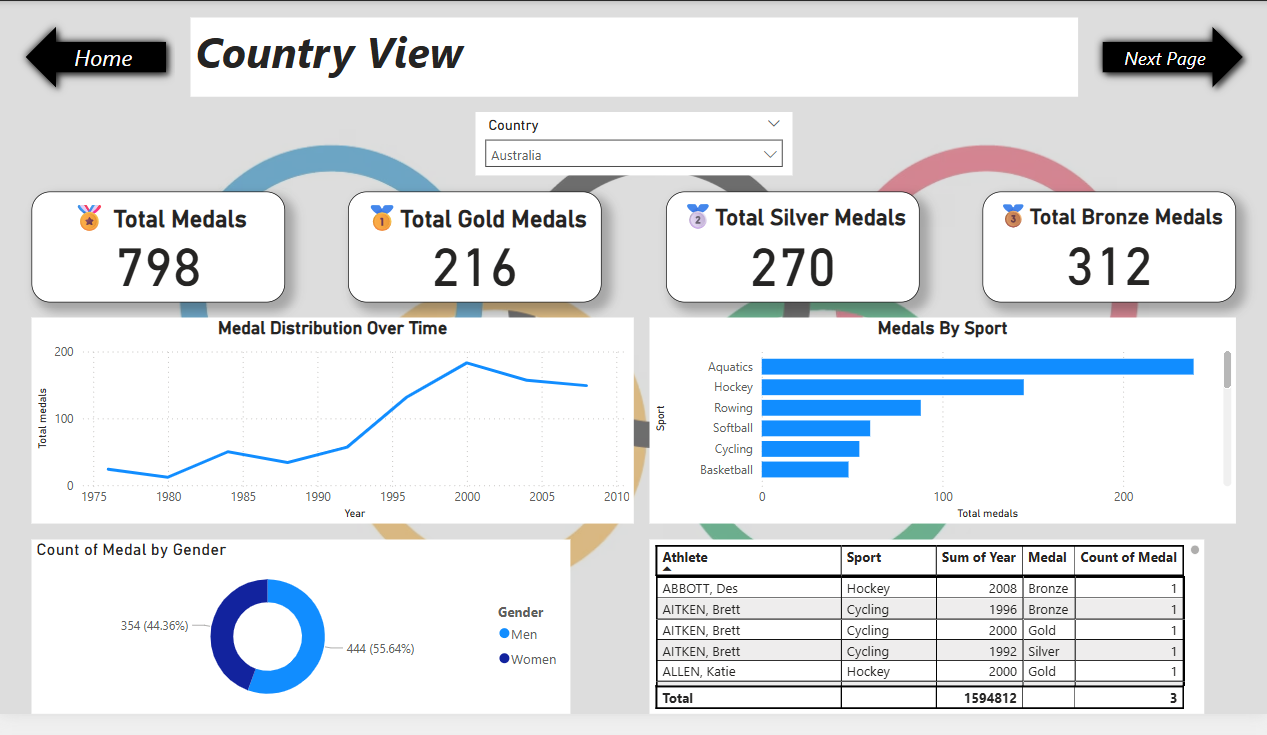

What the dashboard file says about the page in this screenshot:
{"tool":"powerbi","page":{"name":"Country View","canvas":[1280,720],"ordinal":2},"visuals":[{"type":"shape","box":[16,16,160,80],"z":0},{"type":"textbox","box":[192,16,896,80],"z":1000},{"type":"shape","box":[1104,16,160,80],"z":2000},{"type":"slicer","fields":{"Values":["Summer-Olympic-medals-1976-to-2008.Country"]},"box":[480,112,320,64],"z":3000},{"type":"card","title":"🏅 Total Medals","fields":{"Values":["Summer-Olympic-medals-1976-to-2008.Total medals"]},"box":[32,192,256,112],"z":4000},{"type":"card","title":"🥇Total Gold Medals","fields":{"Values":["Summer-Olympic-medals-1976-to-2008.Total Gold Medals"]},"box":[352,192,256,112],"z":5000},{"type":"card","title":"🥈Total Silver Medals","fields":{"Values":["Summer-Olympic-medals-1976-to-2008.Total Silver Medals"]},"box":[672,192,256,112],"z":6000},{"type":"card","title":"🥉Total Bronze Medals","fields":{"Values":["Summer-Olympic-medals-1976-to-2008.Total Bronze Medals"]},"box":[992,192,256,112],"z":7000},{"type":"lineChart","title":"Medal Distribution Over Time","fields":{"Category":["Summer-Olympic-medals-1976-to-2008.Year"],"Y":["Summer-Olympic-medals-1976-to-2008.Total medals"]},"box":[32,320,608,208],"z":8000},{"type":"barChart","title":"Medals By Sport","fields":{"Y":["Summer-Olympic-medals-1976-to-2008.Total medals"],"Category":["Summer-Olympic-medals-1976-to-2008.Sport"]},"box":[656,320,592,208],"z":9000},{"type":"donutChart","fields":{"Category":["Summer-Olympic-medals-1976-to-2008.Gender"],"Y":["CountNonNull(Summer-Olympic-medals-1976-to-2008.Medal)"]},"box":[32,544,544,176],"z":10000},{"type":"tableEx","fields":{"Values":["Summer-Olympic-medals-1976-to-2008.Athlete","Summer-Olympic-medals-1976-to-2008.Sport","Sum(Summer-Olympic-medals-1976-to-2008.Year)","Summer-Olympic-medals-1976-to-2008.Medal","Count(Summer-Olympic-medals-1976-to-2008.Medal)"]},"box":[656,544,560,176],"z":11000}]}

Visuals, with their boxes on the page's 1280x720 design canvas (x1, y1, x2, y2). These are canvas units, not pixel positions in the 1267x735 screenshot, which may show the page scaled, cropped or inside an application window:
shape: 16/16/176/96
textbox: 192/16/1088/96
shape: 1104/16/1264/96
slicer - Summer-Olympic-medals-1976-to-2008.Country: 480/112/800/176
"🏅 Total Medals" card: 32/192/288/304
"🥇Total Gold Medals" card: 352/192/608/304
"🥈Total Silver Medals" card: 672/192/928/304
"🥉Total Bronze Medals" card: 992/192/1248/304
"Medal Distribution Over Time" lineChart: 32/320/640/528
"Medals By Sport" barChart: 656/320/1248/528
donutChart - Summer-Olympic-medals-1976-to-2008.Gender x CountNonNull(Summer-Olympic-medals-1976-to-2008.Medal): 32/544/576/720
tableEx - Summer-Olympic-medals-1976-to-2008.Athlete x Summer-Olympic-medals-1976-to-2008.Sport: 656/544/1216/720
